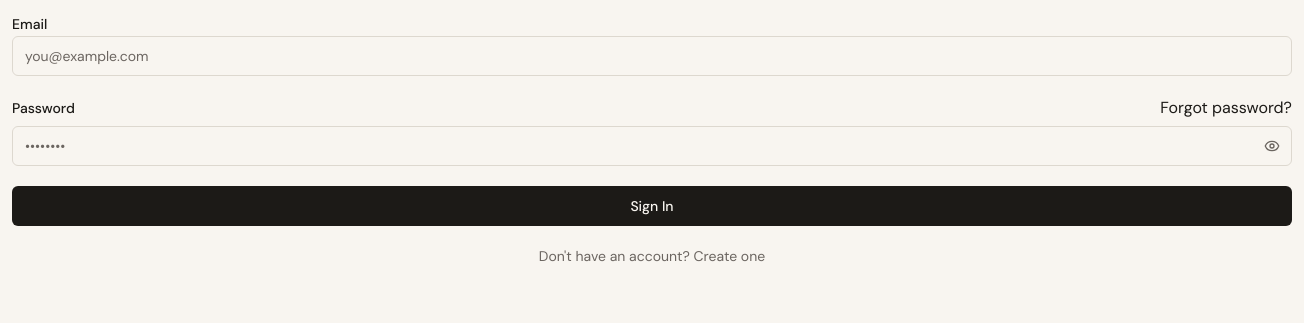
Scenario: LoginForm › shows validation errors for empty submission
What coordinates should you click on to do the following:
click the button "Sign In"
I would click on:
 (652, 206)
Its box is [12,186,1292,226].
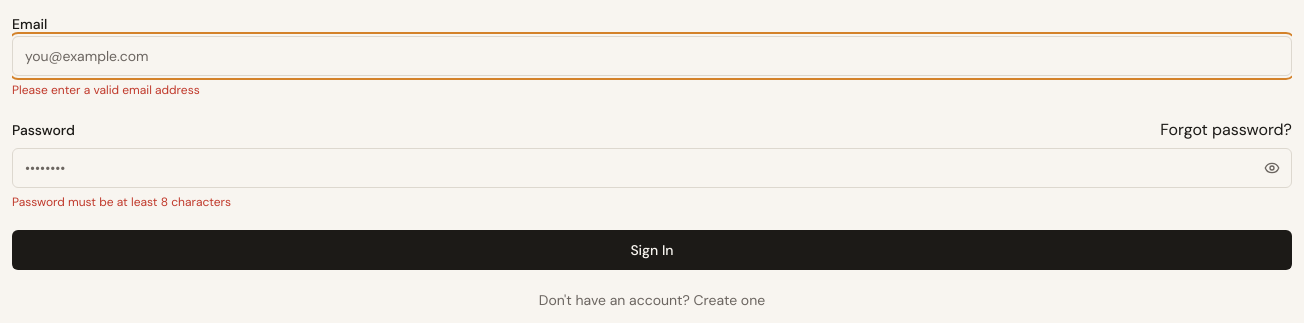
Result: the text "Please enter a valid email address" is shown at [12,82,200,98]
